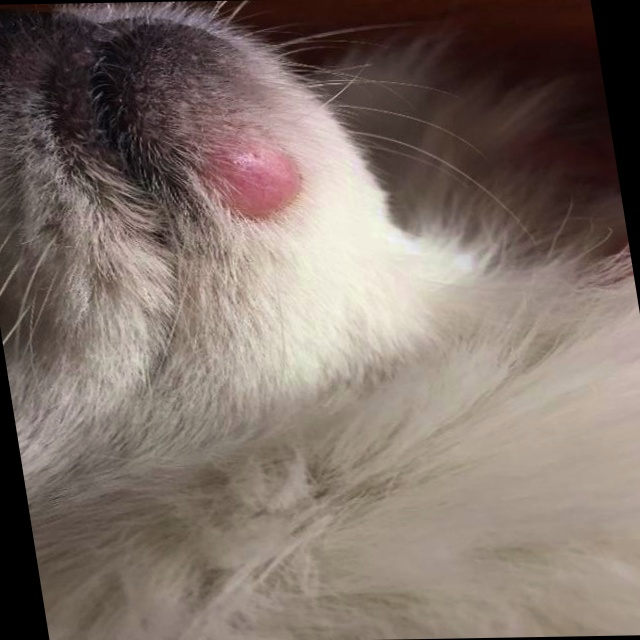lump_and_bump: (188, 131, 309, 224)
